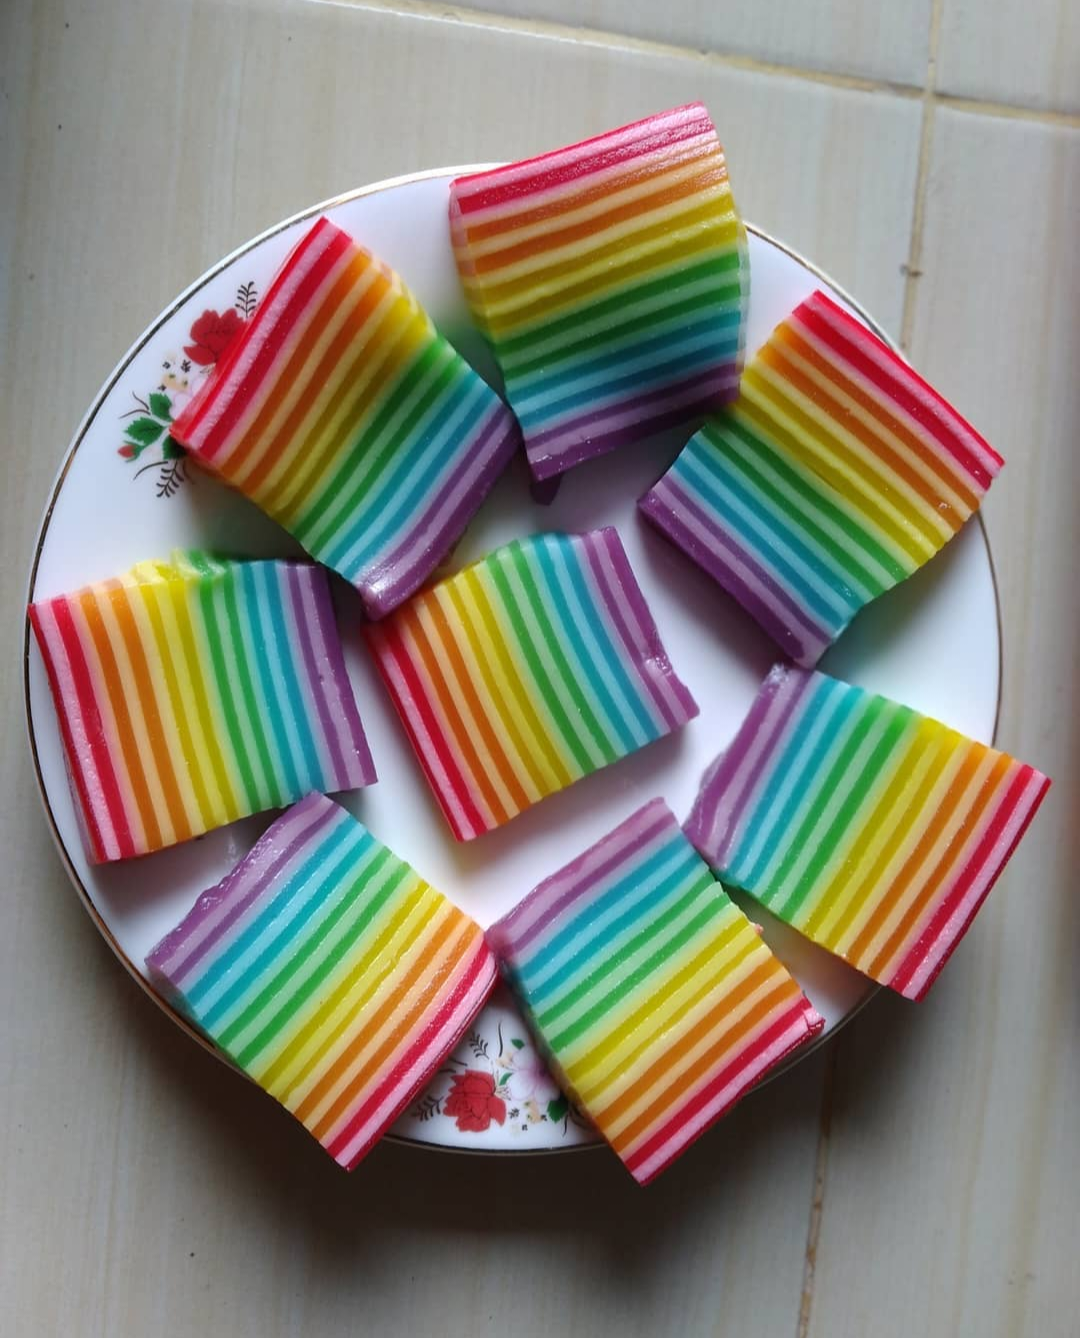kue_lapis_pelangi: (641, 285, 1020, 659), (165, 214, 508, 611), (145, 792, 503, 1172), (487, 798, 822, 1187), (685, 667, 1048, 999), (26, 544, 391, 865), (444, 102, 743, 481), (374, 524, 699, 833)
